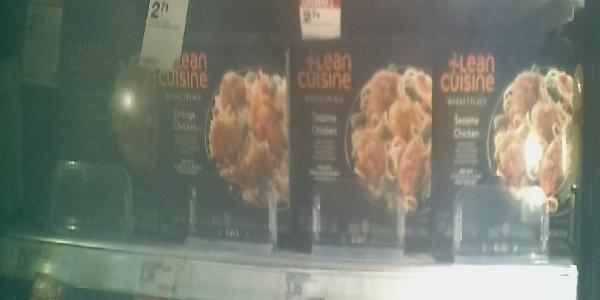pizza1: (432, 37, 582, 246), (19, 24, 155, 243), (294, 38, 431, 245), (156, 45, 291, 242)
